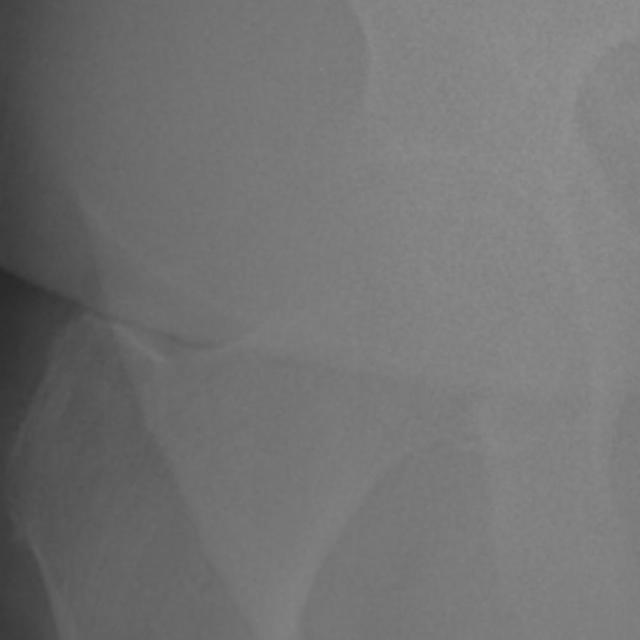Fitted_femural_head: (296, 172, 432, 296)
